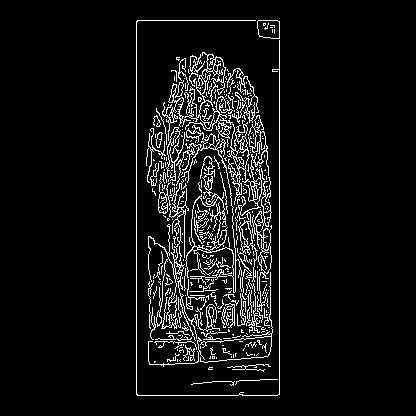buddha-sitting: (185, 156, 234, 276)
